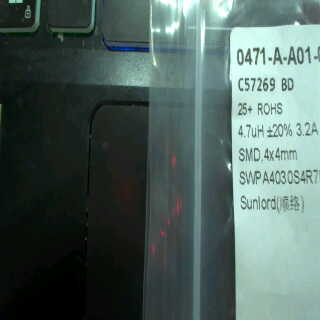4.7uH: (233, 121, 266, 145)
